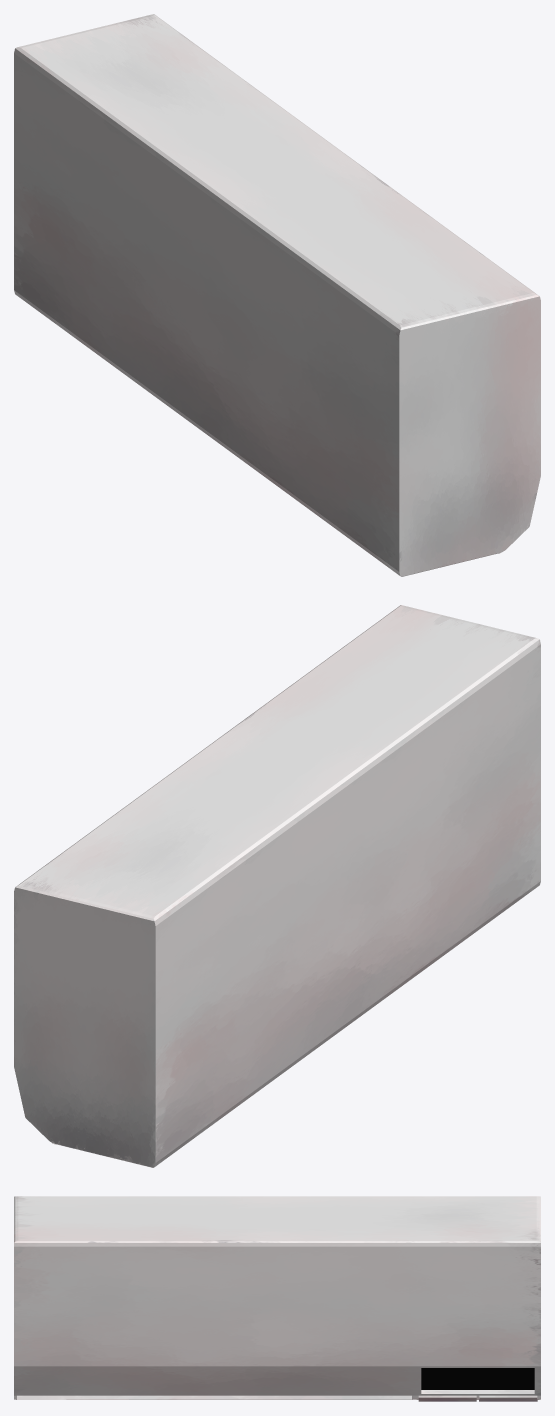
The picture shows the model from 3 angles, top to bottom: view 1: azimuth 30°, elevation 25°; view 2: azimuth 150°, elevation 25°; view 3: azimuth 270°, elevation 25°; orthographic projection. The views are drawn at different scales.
Visible parts, largest first — view 1: Cube; view 2: Cube; view 3: Cube.
Part boxes in pixels (<box>): Cube: <box>14,14,540,576</box>; Cube: <box>14,605,540,1167</box>; Cube: <box>14,1196,540,1401</box>.
Bounding box in the file's own units: 119 × 201 × 559.
4 materials, 3 textured.
